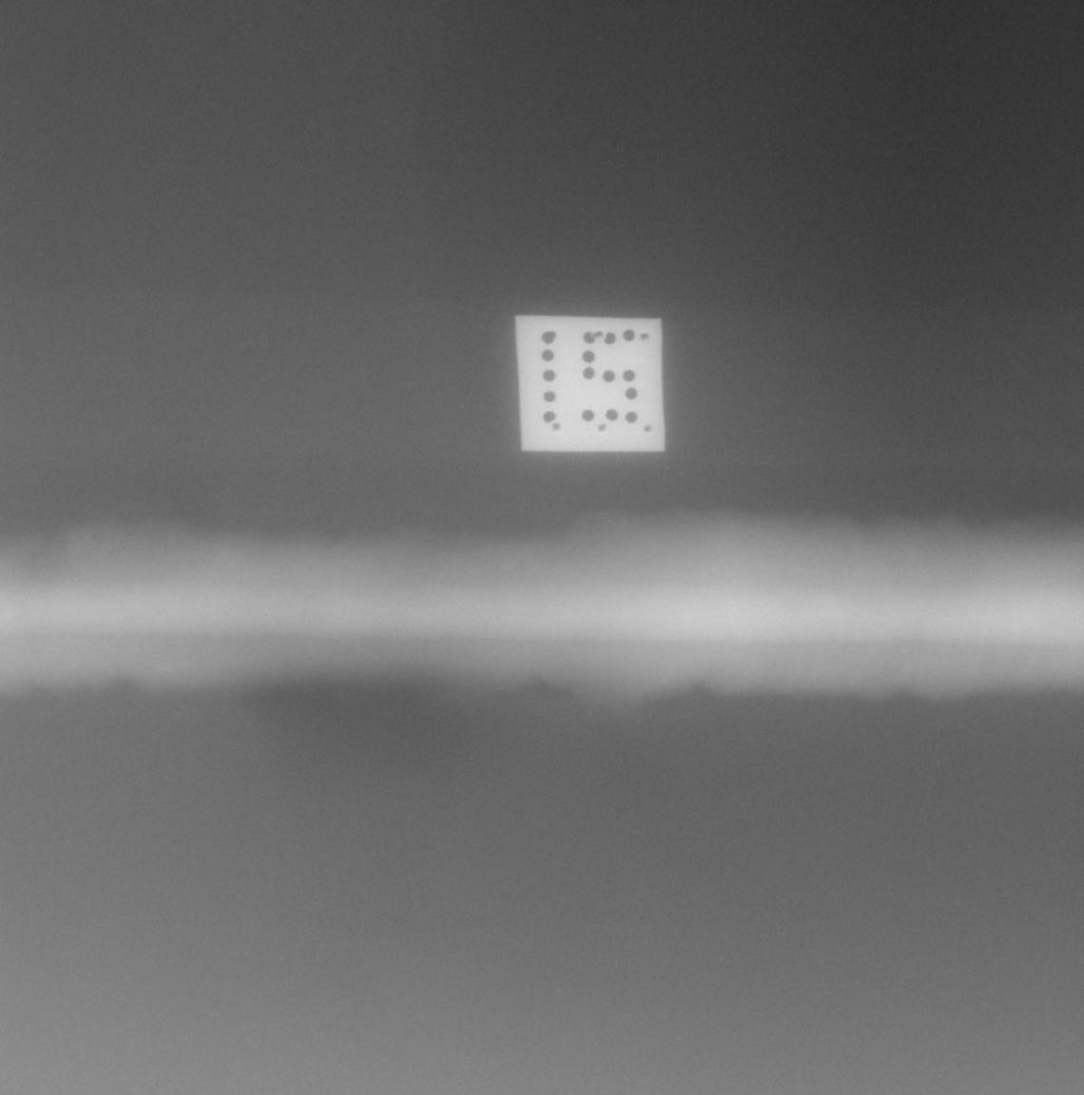Inclusion: (92, 533, 96, 537), (99, 540, 101, 545)
